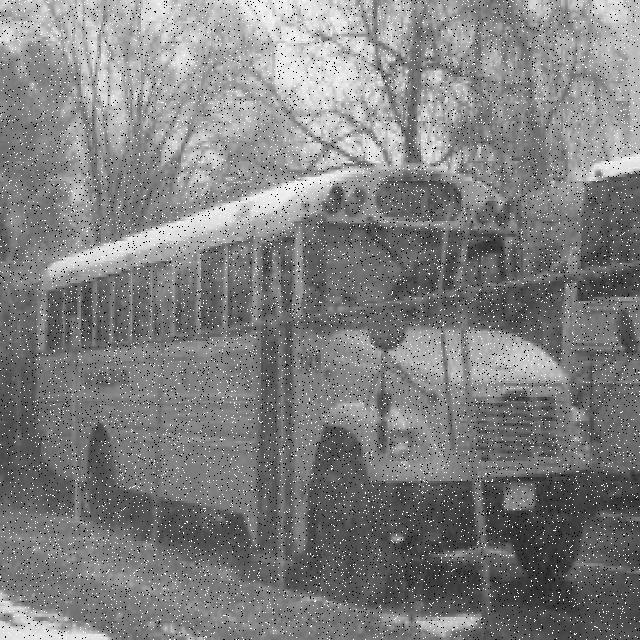Bus: (35, 165, 640, 608)
